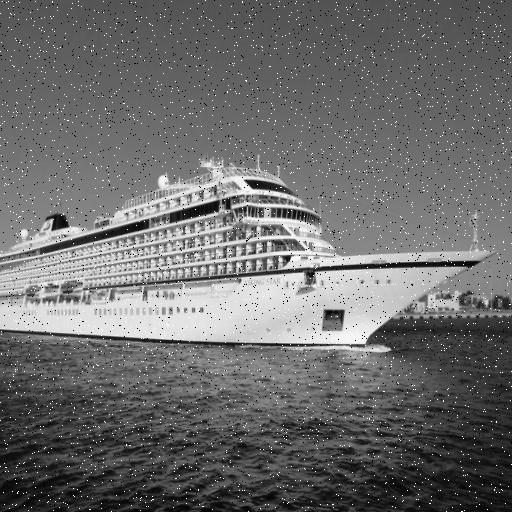cruises: (1, 151, 501, 361)
